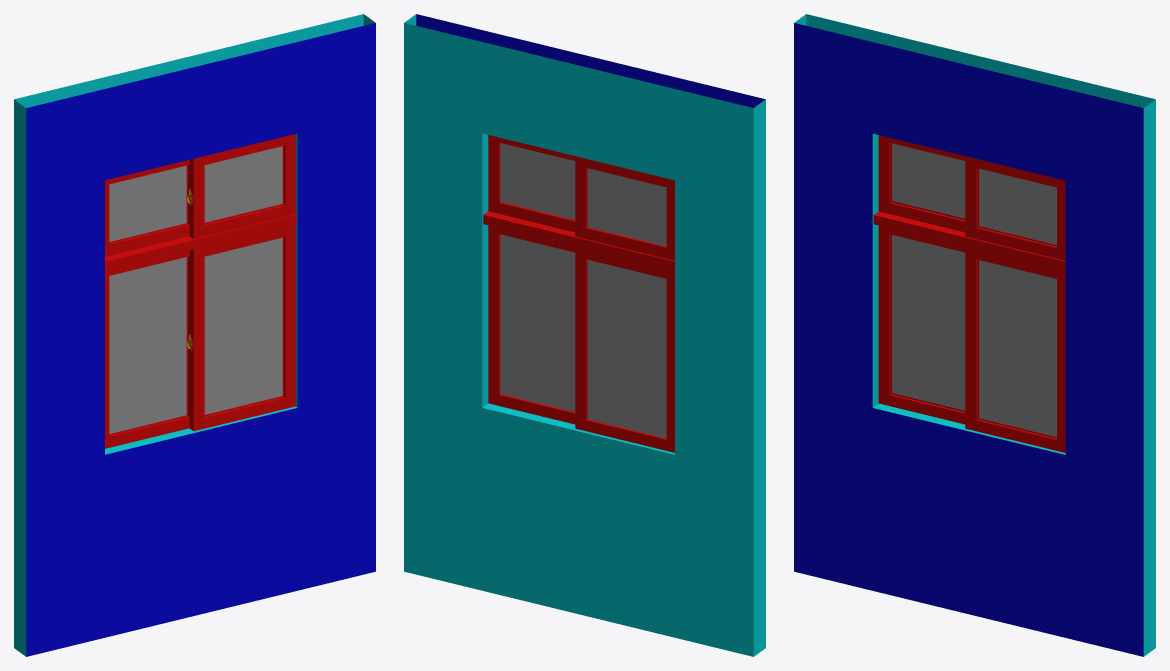
The model's file is inside_windows_type2.FBX.
3 views of the same model, side by side, from view 1: azimuth 30°, elevation 25°; view 2: azimuth 150°, elevation 25°; view 3: azimuth 330°, elevation 25° (orthographic).
Visible parts, largest first — view 1: wall_win, glass; view 2: wall_win, glass; view 3: wall_win, glass.
Part boxes in pixels (x1,y1,x2,y2): wall_win: [14, 14, 375, 656]; glass: [109, 146, 282, 433]; wall_win: [404, 14, 765, 656]; glass: [500, 143, 666, 438]; wall_win: [794, 14, 1155, 656]; glass: [892, 143, 1056, 437].
Size of the model in its own units: 2 by 0.12 by 3.
